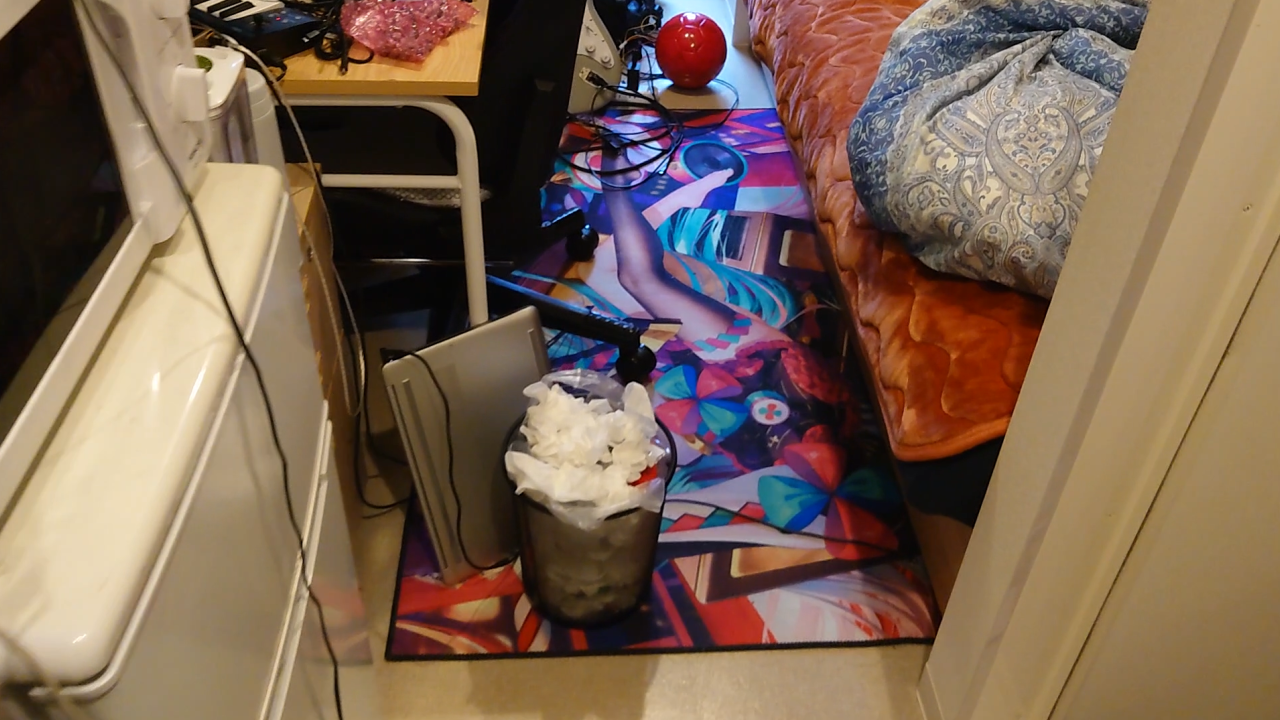red: (656, 11, 727, 90)
